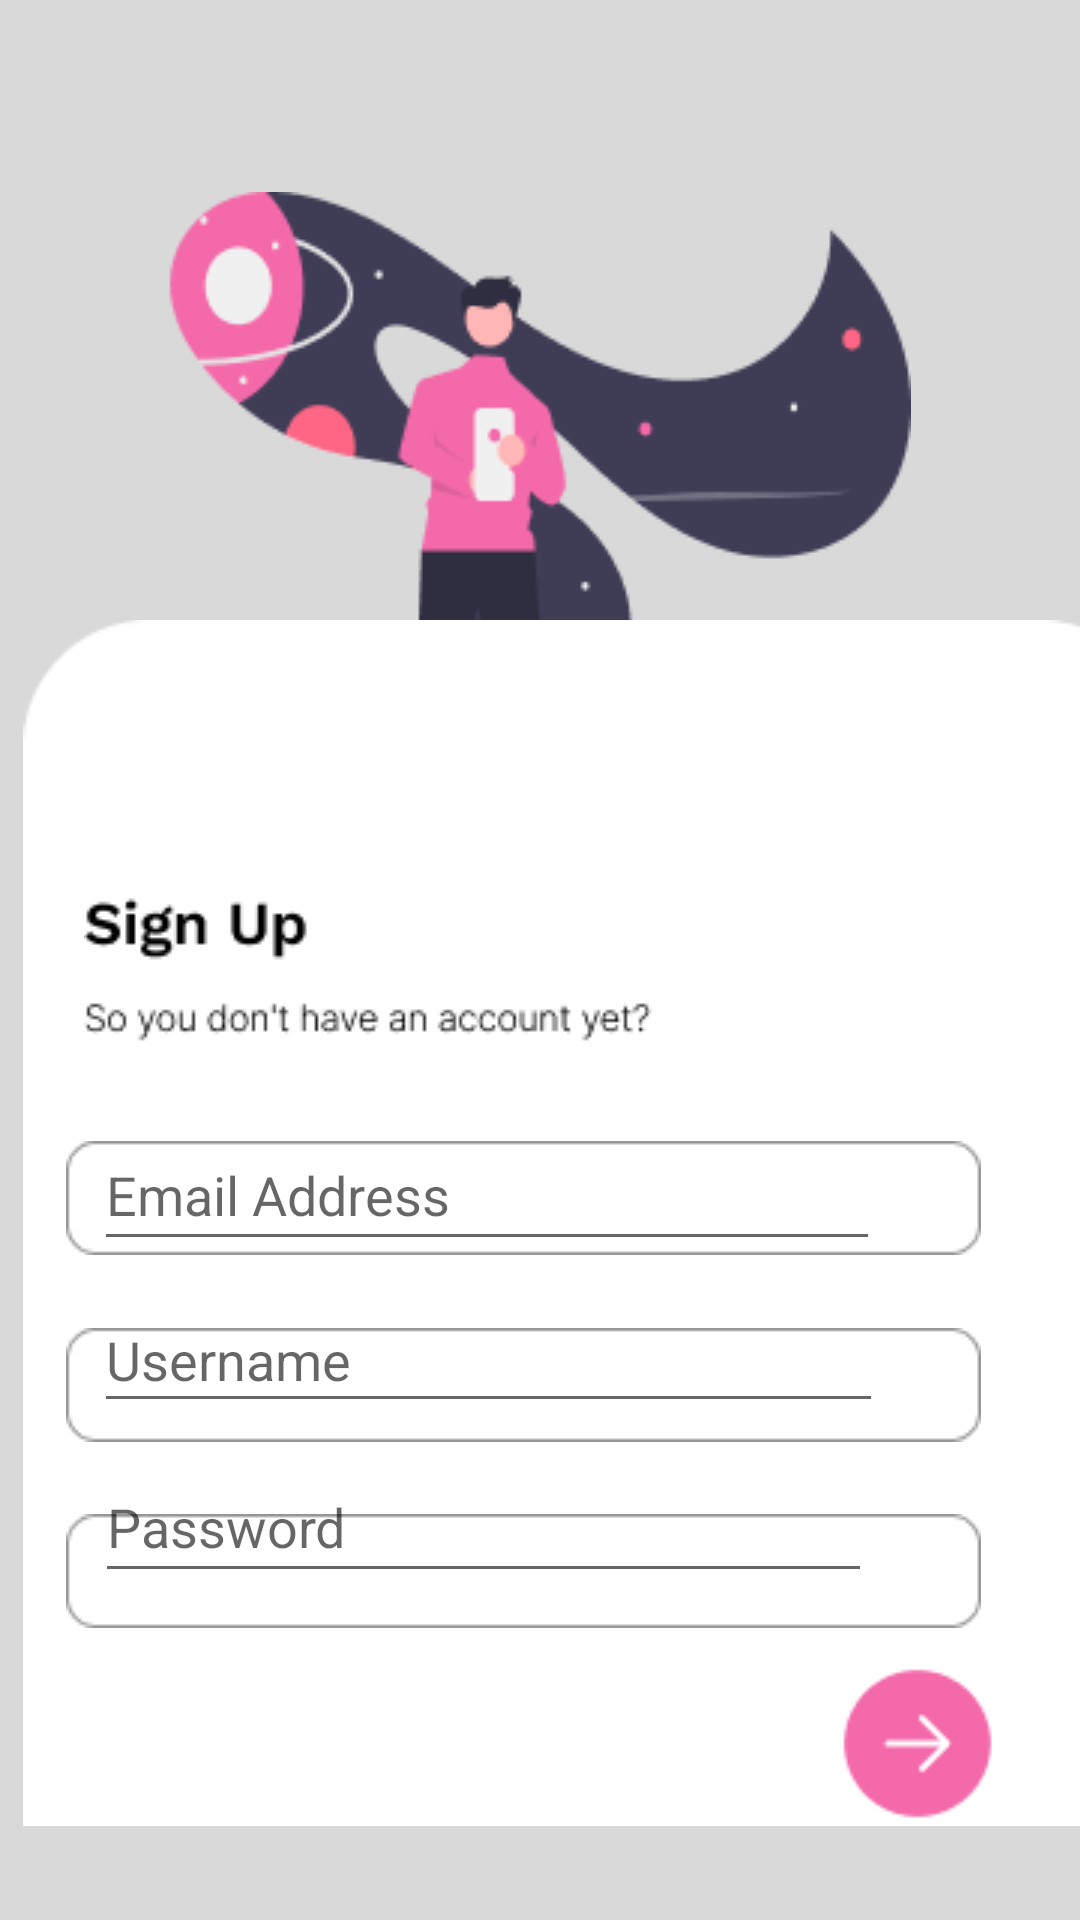

Point at icon controls on the screen. Image size 1080*1920, points as point (x, y).
arrow circle right: point (917, 1743)
